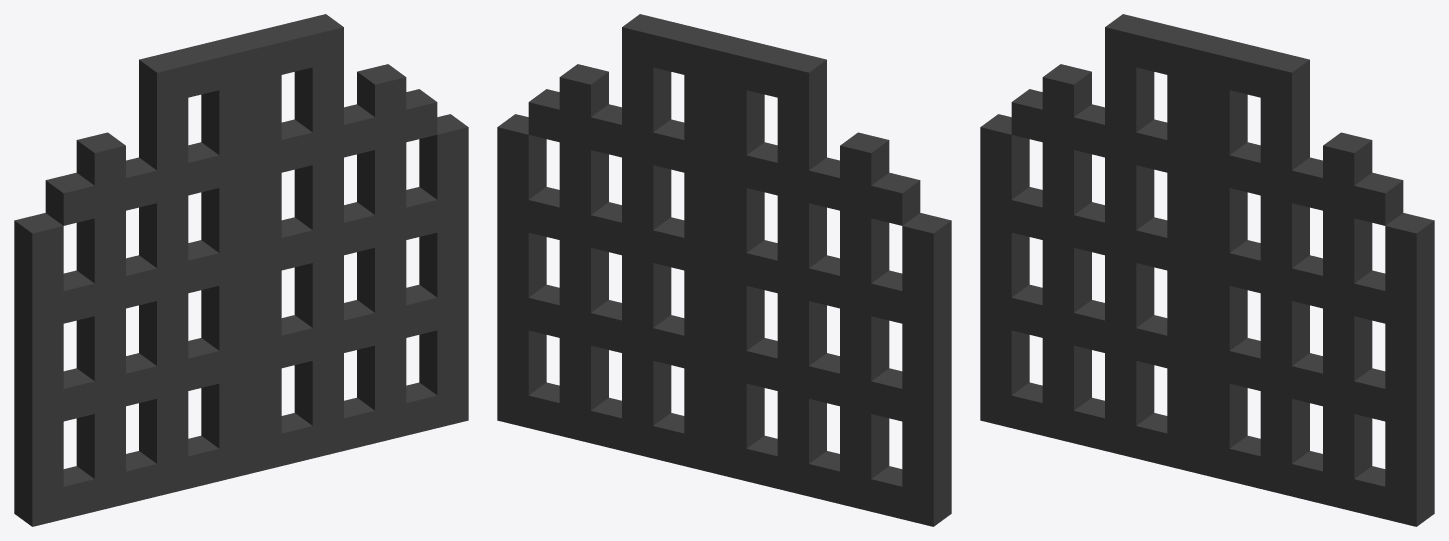
The model's file is Ворота вн.obj.
3 renders of one model, left to right at view 1: azimuth 30°, elevation 25°; view 2: azimuth 150°, elevation 25°; view 3: azimuth 330°, elevation 25°, orthographic.
Size of the model in its own units: 1.4 by 1.3 by 0.1.
Materials: 1 (1 with a texture image).
